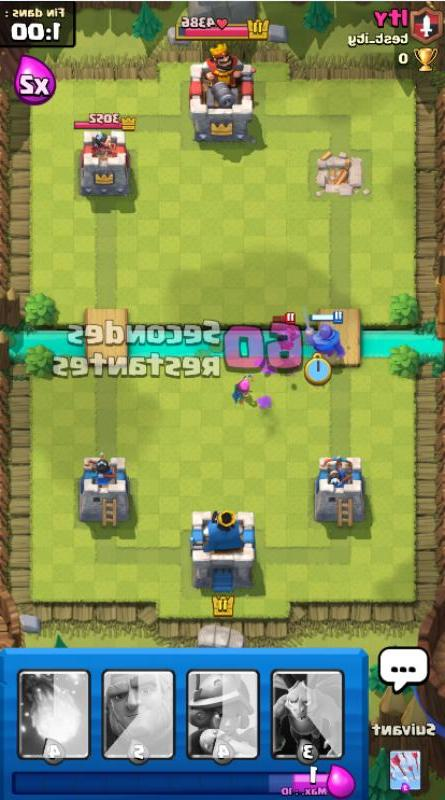archere: (231, 372, 255, 405)
chevalier: (302, 309, 347, 357)
gargouille: (271, 313, 302, 351)
